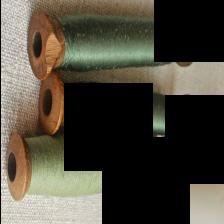green: (26, 9, 197, 79), (24, 133, 172, 197), (72, 82, 187, 135)
